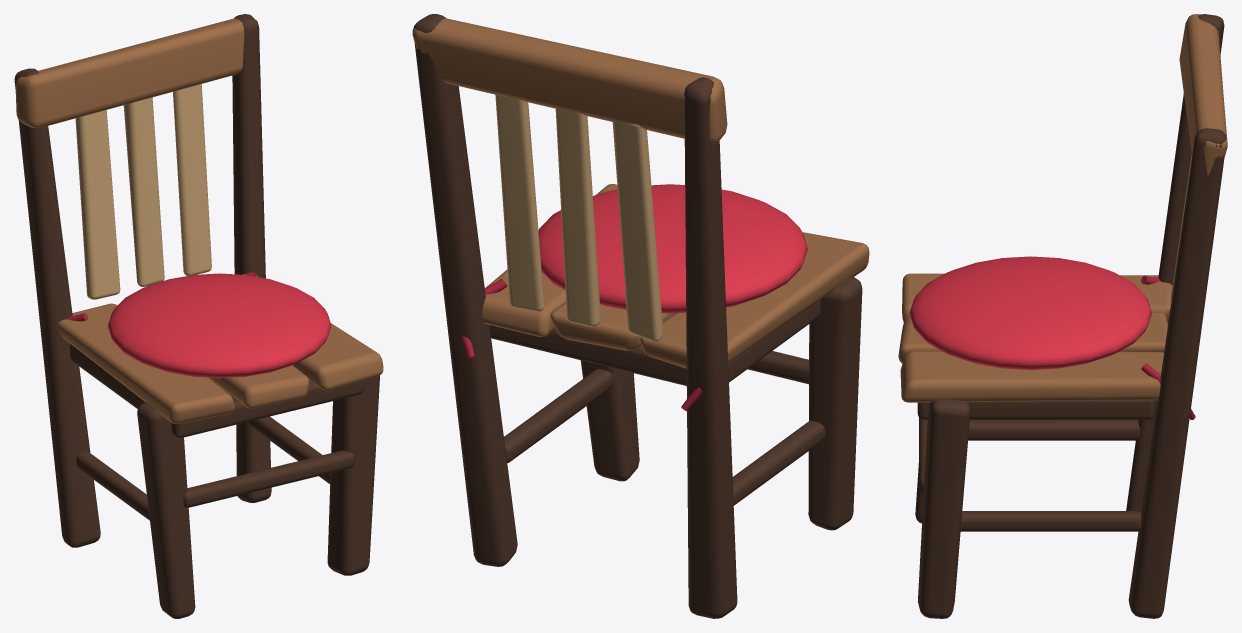
File: chair.glb
3 views of the same model, side by side, from view 1: azimuth 30°, elevation 25°; view 2: azimuth 150°, elevation 25°; view 3: azimuth 270°, elevation 25° (orthographic). The views are drawn at different scales.
Visible parts, largest first — view 1: cushion, leg_back, top_rail, leg_back.001, leg_front, leg_front.001, seat_plank, slat, slat.002, slat.001, apron, stretcher_front (+4 smaller); view 2: leg_back, leg_back.001, top_rail, cushion, leg_front, seat_plank, slat, slat.002, slat.001, apron, leg_front.001, stretcher_side.001 (+4 smaller); view 3: cushion, leg_back.001, seat_plank.002, leg_front.001, top_rail, leg_back, stretcher_side.001, apron, stretcher_side, seat_plank, seat_plank.001, stretcher_front.
Boxes of the visible parts, x1,y1,x2,y2 form: cushion: (108, 273, 331, 378); leg_back: (14, 68, 100, 547); top_rail: (15, 18, 244, 127); leg_back.001: (232, 14, 271, 502); leg_front: (137, 402, 195, 618); leg_front.001: (327, 375, 379, 575); seat_plank: (58, 303, 234, 423); slat: (75, 110, 120, 299); slat.002: (173, 84, 211, 275); slat.001: (123, 97, 164, 286); apron: (70, 344, 364, 438); stretcher_front: (183, 450, 355, 507); leg_back: (684, 77, 737, 618); leg_back.001: (413, 14, 517, 566); top_rail: (412, 18, 727, 144); cushion: (538, 184, 807, 313); leg_front: (808, 276, 862, 530); seat_plank: (640, 232, 869, 368); slat: (612, 121, 663, 341); slat.002: (495, 94, 544, 311); slat.001: (555, 108, 600, 326); apron: (489, 300, 820, 385); leg_front.001: (580, 360, 639, 481); stretcher_side.001: (504, 369, 613, 462); cushion: (909, 256, 1151, 369); leg_back.001: (1128, 128, 1226, 618); seat_plank.002: (900, 351, 1163, 402); leg_front.001: (918, 399, 970, 618); top_rail: (1179, 14, 1227, 175); leg_back: (1126, 14, 1224, 511); stretcher_side.001: (960, 511, 1141, 531); apron: (917, 400, 1154, 419); stretcher_side: (968, 420, 1139, 440); seat_plank: (902, 273, 1172, 322); seat_plank.001: (898, 312, 1167, 363); stretcher_front: (919, 417, 927, 492).
Size of the model in its own units: 0.5617 by 1.02 by 0.6105.
